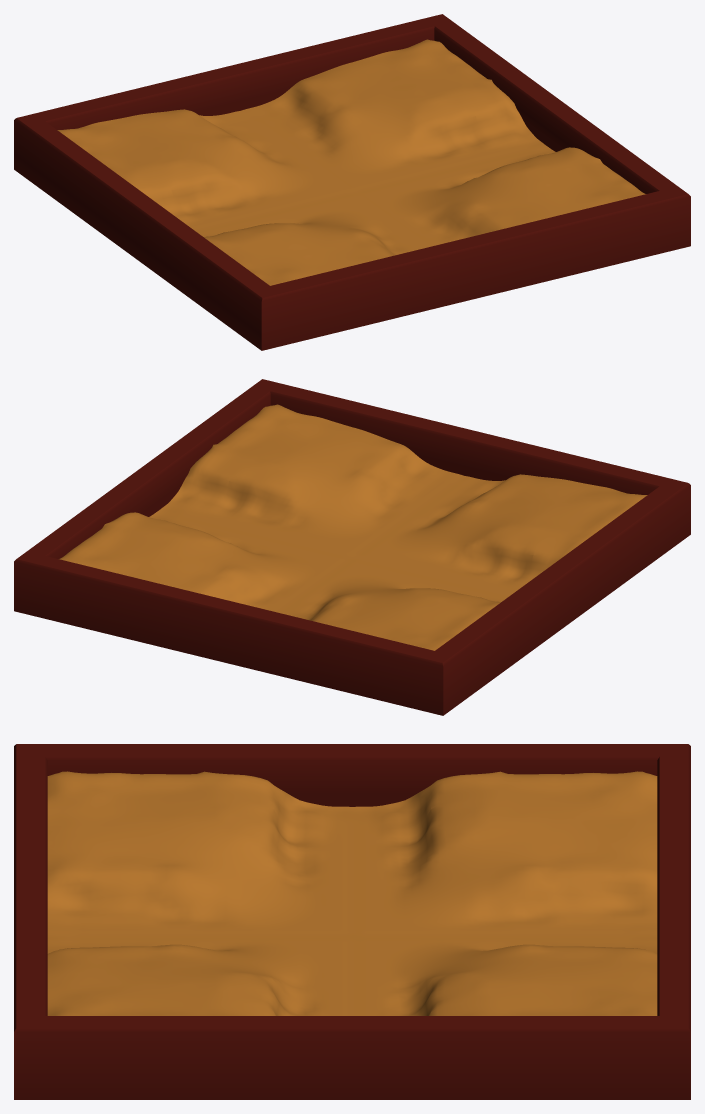
File: ondergrond.fbx
3 views of the same model, one above another, from view 1: azimuth 30°, elevation 25°; view 2: azimuth 150°, elevation 25°; view 3: azimuth 270°, elevation 25° (orthographic). The views are drawn at different scales.
Parts seen in each view (by area): view 1: ondergrond, rand; view 2: ondergrond, rand; view 3: ondergrond, rand.
Boxes of the visible parts, <box> form: ondergrond: <box>57,39,645,285</box>; rand: <box>14,14,690,350</box>; ondergrond: <box>59,404,647,650</box>; rand: <box>14,379,690,715</box>; ondergrond: <box>47,771,657,1015</box>; rand: <box>14,744,690,1099</box>.
Bounding box in the file's own units: 8837 × 1067 × 8837.
